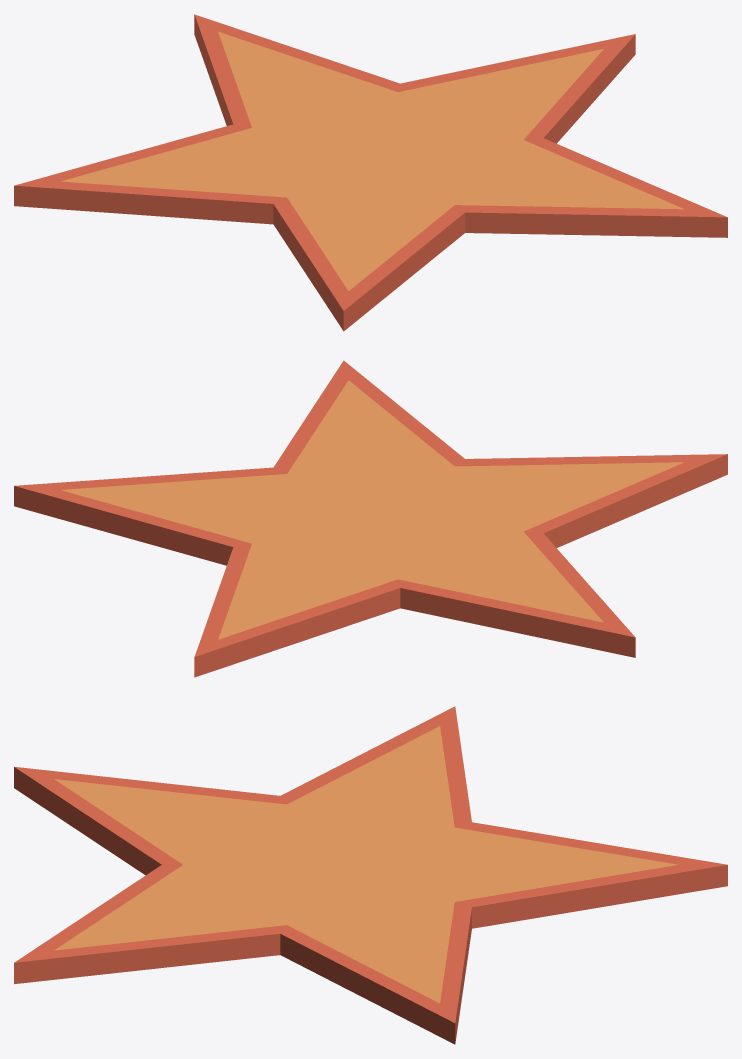
File: plataformaEstrela.fbx
3 renders of one model, top to bottom at view 1: azimuth 30°, elevation 25°; view 2: azimuth 150°, elevation 25°; view 3: azimuth 270°, elevation 25°, orthographic. The views are drawn at different scales.
Visible parts, largest first — view 1: platEstrela; view 2: platEstrela; view 3: platEstrela.
Part boxes in pixels (bbox=[...]): platEstrela: bbox=[14, 14, 727, 331]; platEstrela: bbox=[14, 360, 727, 677]; platEstrela: bbox=[14, 706, 727, 1044].
Bounding box in the file's own units: 543 × 30.79 × 517.
